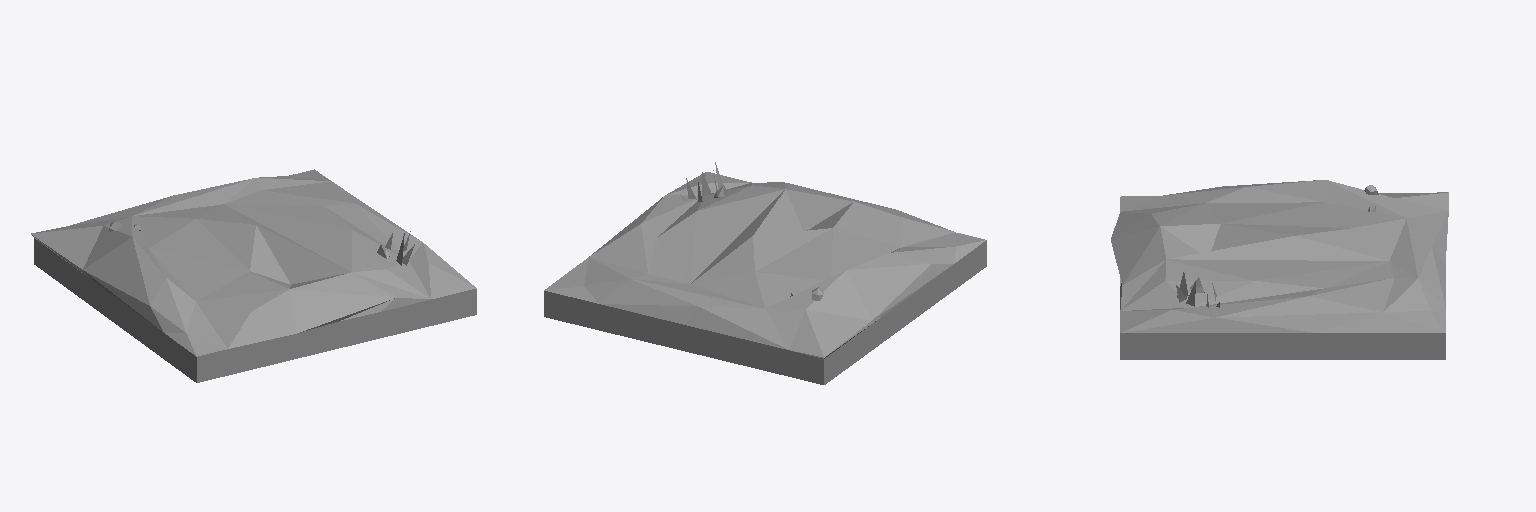
Rendered from tile1.obj.
3 views of the same model, side by side, from view 1: azimuth 30°, elevation 25°; view 2: azimuth 150°, elevation 25°; view 3: azimuth 270°, elevation 25° (orthographic).
Parts seen in each view (by area): view 1: ground_ground_Cube; view 2: ground_ground_Cube; view 3: ground_ground_Cube.
Boxes of the visible parts, x1=… form: ground_ground_Cube: x1=31, y1=169, x2=476, y2=382; ground_ground_Cube: x1=544, y1=162, x2=986, y2=384; ground_ground_Cube: x1=1111, y1=180, x2=1448, y2=359.
Bounding box in the file's own units: 7.61 × 1.8 × 7.91.